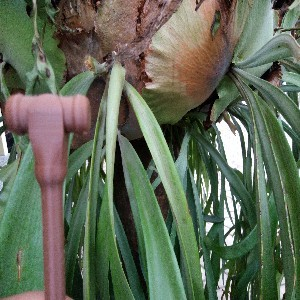palu: (4, 93, 92, 300)
